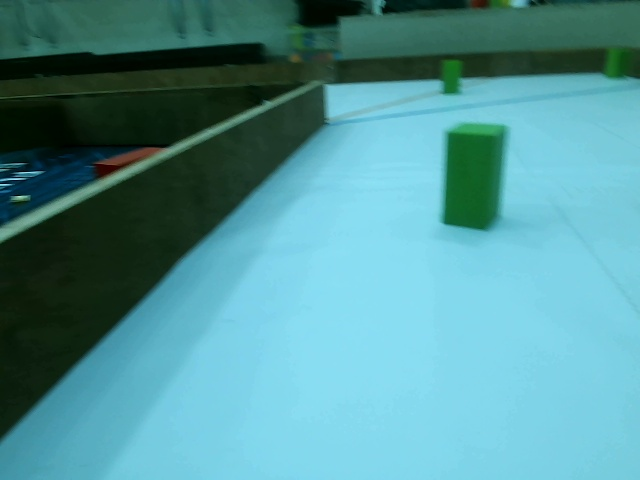green: (447, 124, 503, 232), (443, 61, 462, 95)
